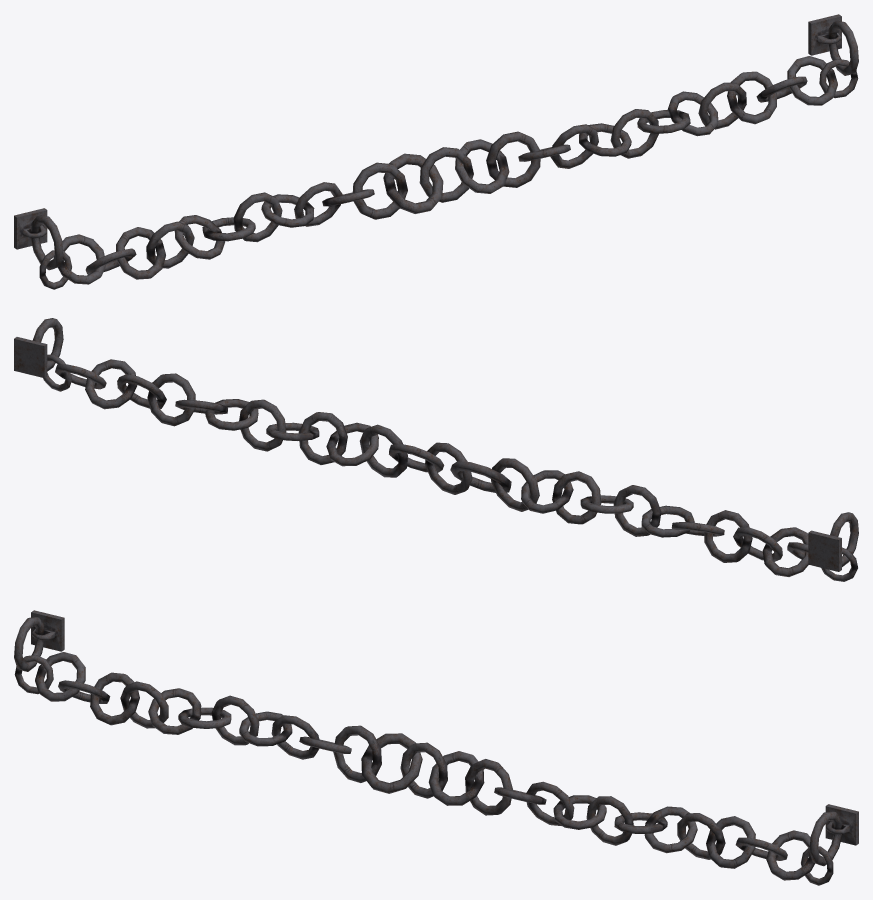
File: Castle Wall Ring Chain 08.fbx
3 renders of one model, top to bottom at view 1: azimuth 30°, elevation 25°; view 2: azimuth 150°, elevation 25°; view 3: azimuth 330°, elevation 25°, orthographic.
Visible parts, largest first — view 1: Cube; view 2: Cube; view 3: Cube.
Boxes of the visible parts, x1,y1,x2,y2 form: Cube: [14, 14, 858, 289]; Cube: [14, 318, 858, 581]; Cube: [14, 610, 858, 885].
Bounding box in the file's own units: 332 × 30.73 × 24.91.
